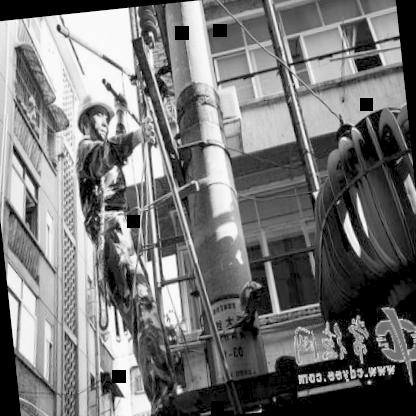helmet: (74, 90, 119, 146)
